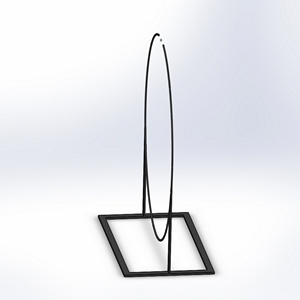circle: (95, 30, 219, 279)
